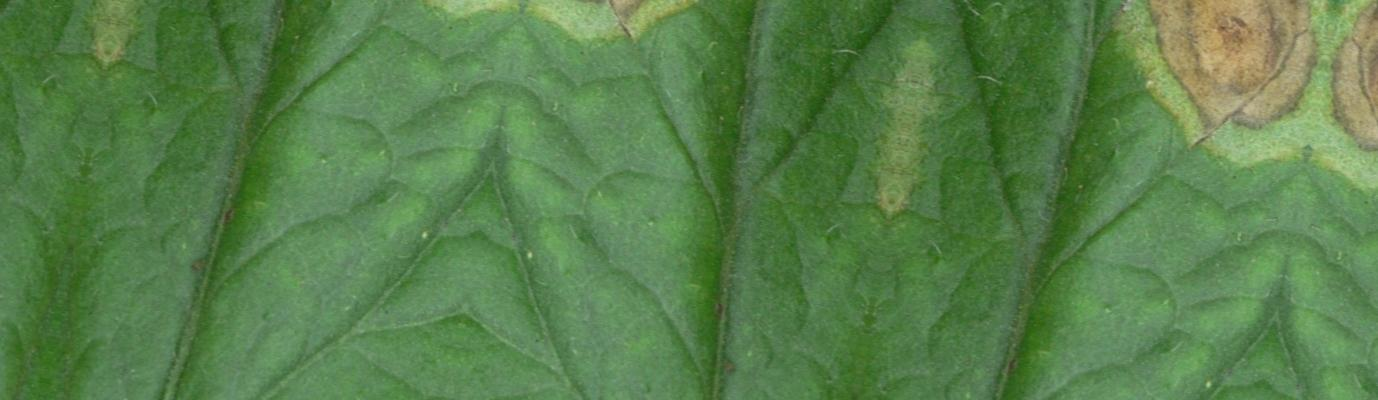Tomato leaf late blight: (364, 0, 1014, 400)
